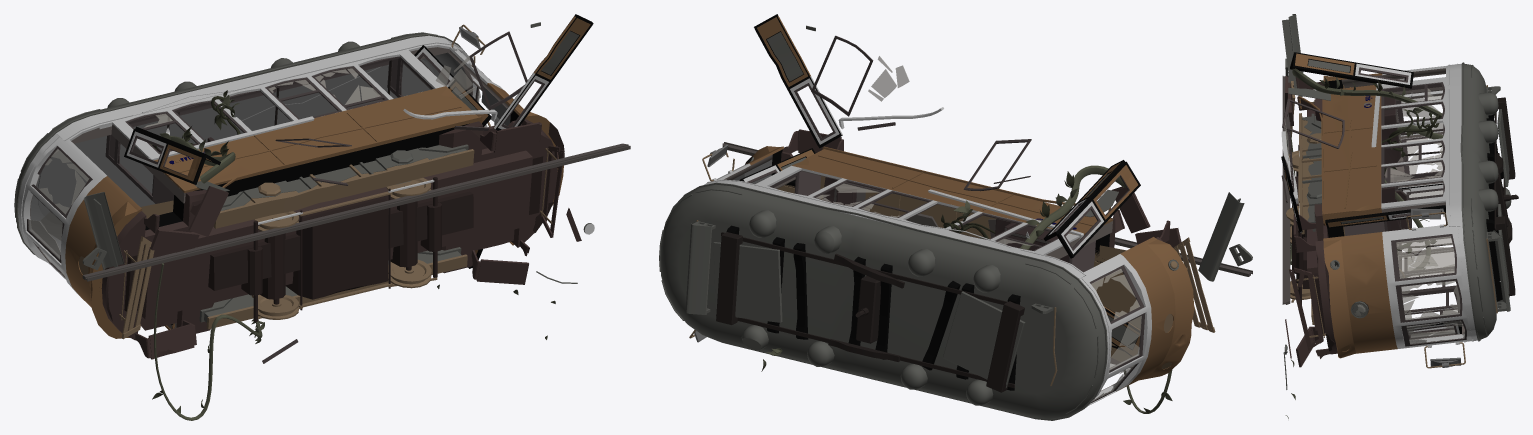
Rendered from train.fbx.
The picture shows the model from 3 angles, left to right: view 1: azimuth 30°, elevation 25°; view 2: azimuth 150°, elevation 25°; view 3: azimuth 270°, elevation 25°; orthographic projection. The views are drawn at different scales.
Visible parts, largest first — view 1: tram_material_itog:polySurface1522, tram_material_itog:polySurface1365, tram_material_itog:polySurface2664, tram_material_itog:polySurface1580, tram_material_itog:pCube400, tram_material_itog:polySurface1379, tram_material_itog:pCube379, tram_material_itog:polySurface1565, tram_material_itog:polySurface1567, tram_material_itog:polySurface1702, tram_material_itog:polySurface1071, tram_material_itog:polySurface1073 (+36 smaller); view 2: tram_material_itog:polySurface1523, tram_material_itog:polySurface2664, tram_material_itog:polySurface1702, tram_material_itog:polySurface1580, tram_material_itog:polySurface1351, tram_material_itog:polySurface1074, tram_material_itog:polySurface1510, tram_material_itog:polySurface1515, tram_material_itog:polySurface1567, tram_material_itog:polySurface1518, tram_material_itog:polySurface1180, tram_material_itog:polySurface1503 (+30 smaller); view 3: tram_material_itog:polySurface2664, tram_material_itog:polySurface2667, tram_material_itog:polySurface1580, tram_material_itog:polySurface1523, tram_material_itog:polySurface1567, tram_material_itog:polySurface1574, tram_material_itog:polySurface1351, tram_material_itog:pCylinder116, tram_material_itog:pCube379, tram_material_itog:polySurface1072, tram_material_itog:polySurface1263, tram_material_itog:polySurface1081 (+52 smaller).
Boxes of the visible parts, left/top/right/bottom form: tram_material_itog:polySurface1522: left=30, top=52, right=466, bottom=254; tram_material_itog:polySurface1365: left=142, top=150, right=532, bottom=319; tram_material_itog:polySurface2664: left=154, top=86, right=482, bottom=192; tram_material_itog:polySurface1580: left=22, top=43, right=503, bottom=296; tram_material_itog:pCube400: left=285, top=198, right=388, bottom=299; tram_material_itog:polySurface1379: left=208, top=191, right=473, bottom=290; tram_material_itog:pCube379: left=82, top=143, right=630, bottom=281; tram_material_itog:polySurface1565: left=214, top=149, right=474, bottom=228; tram_material_itog:polySurface1567: left=56, top=35, right=451, bottom=140; tram_material_itog:polySurface1702: left=65, top=176, right=142, bottom=338; tram_material_itog:polySurface1071: left=145, top=110, right=518, bottom=242; tram_material_itog:polySurface1073: left=101, top=190, right=213, bottom=340; tram_material_itog:polySurface1523: left=660, top=184, right=1105, bottom=419; tram_material_itog:polySurface2664: left=792, top=146, right=1112, bottom=234; tram_material_itog:polySurface1702: left=1116, top=237, right=1194, bottom=391; tram_material_itog:polySurface1580: left=716, top=163, right=1151, bottom=405; tram_material_itog:polySurface1351: left=741, top=210, right=1000, bottom=405; tram_material_itog:polySurface1074: left=777, top=176, right=1140, bottom=361; tram_material_itog:polySurface1510: left=713, top=242, right=782, bottom=322; tram_material_itog:polySurface1515: left=943, top=291, right=1025, bottom=387; tram_material_itog:polySurface1567: left=703, top=179, right=1085, bottom=278; tram_material_itog:polySurface1518: left=665, top=182, right=1107, bottom=420; tram_material_itog:polySurface1180: left=685, top=223, right=712, bottom=314; tram_material_itog:polySurface1503: left=716, top=232, right=742, bottom=324; tram_material_itog:polySurface2664: left=1298, top=85, right=1381, bottom=225; tram_material_itog:polySurface2667: left=1323, top=232, right=1397, bottom=358; tram_material_itog:polySurface1580: left=1381, top=65, right=1472, bottom=348; tram_material_itog:polySurface1523: left=1462, top=63, right=1496, bottom=339; tram_material_itog:polySurface1567: left=1447, top=63, right=1462, bottom=226; tram_material_itog:polySurface1574: left=1396, top=236, right=1454, bottom=278; tram_material_itog:polySurface1351: left=1478, top=92, right=1511, bottom=305; tram_material_itog:pCylinder116: left=1290, top=68, right=1443, bottom=278; tram_material_itog:pCube379: left=1282, top=76, right=1290, bottom=304; tram_material_itog:polySurface1072: left=1314, top=204, right=1337, bottom=354; tram_material_itog:polySurface1263: left=1341, top=68, right=1445, bottom=187; tram_material_itog:polySurface1081: left=1302, top=113, right=1321, bottom=231.
Size of the model in its own units: 1293 by 731 by 571.
